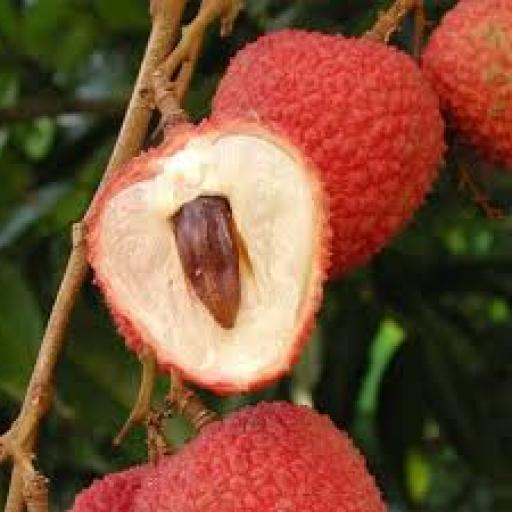lychee: (86, 123, 328, 393), (213, 30, 442, 275), (70, 403, 385, 511), (134, 403, 385, 511), (423, 0, 511, 170), (72, 465, 149, 511)
